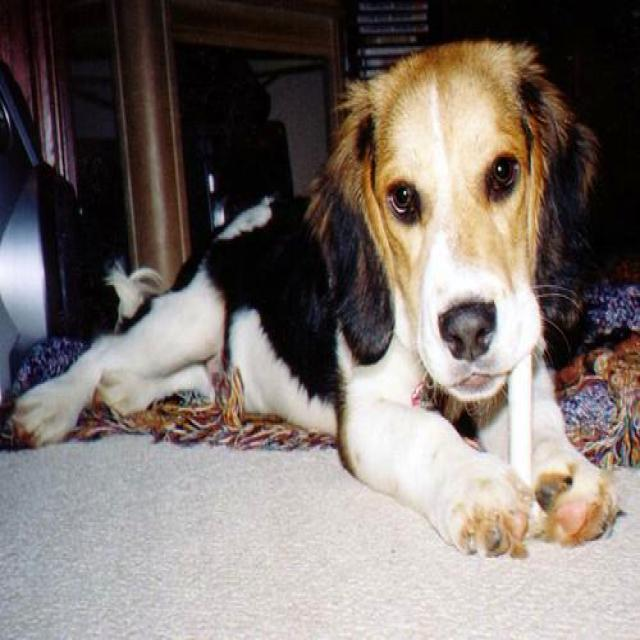beagle: (3, 38, 620, 556)
